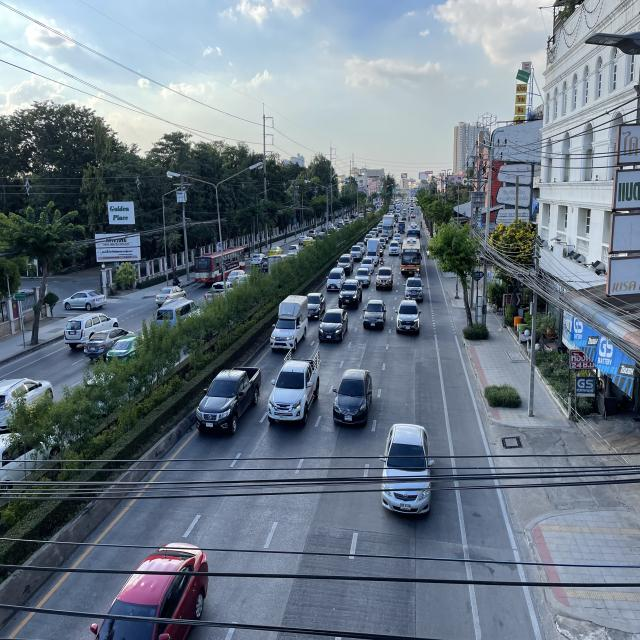bike: (379, 258, 385, 268)
bus: (400, 237, 423, 276), (406, 222, 422, 238)
car: (88, 540, 210, 640), (378, 424, 435, 520), (194, 364, 262, 436), (332, 368, 374, 428), (318, 306, 349, 342), (396, 298, 422, 335), (362, 298, 387, 331), (338, 279, 363, 309), (306, 291, 326, 320), (403, 277, 425, 302), (326, 267, 346, 292), (337, 254, 354, 275), (354, 268, 371, 288), (349, 244, 363, 262), (360, 257, 374, 274), (388, 240, 400, 256)
truck: (267, 348, 322, 425), (270, 296, 308, 352), (375, 264, 394, 290), (364, 238, 380, 267), (382, 214, 394, 239), (397, 220, 405, 233)
